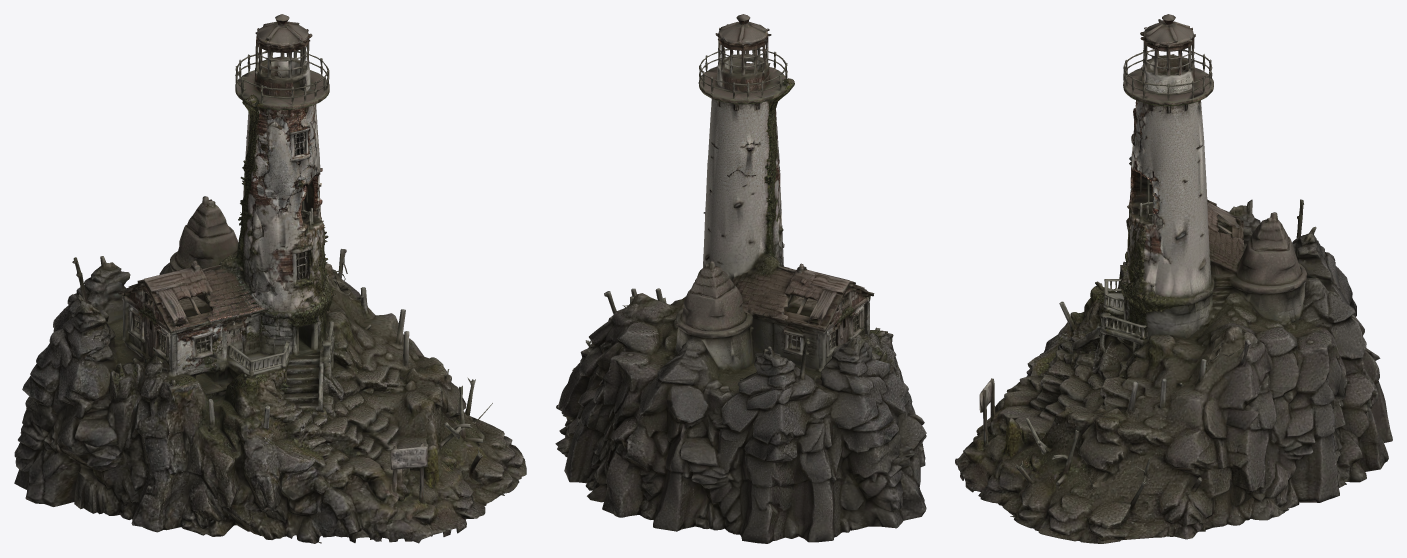
File: post-apocalyptic-lighthouse.glb
The picture shows the model from 3 angles, left to right: view 1: azimuth 30°, elevation 25°; view 2: azimuth 150°, elevation 25°; view 3: azimuth 270°, elevation 25°; orthographic projection. The views are drawn at different scales.
Visible parts, largest first — view 1: tripo_node_4496603e-7986-4afe-8b84-2843c611d68b; view 2: tripo_node_4496603e-7986-4afe-8b84-2843c611d68b; view 3: tripo_node_4496603e-7986-4afe-8b84-2843c611d68b.
Boxes of the visible parts, left/top/right/bottom form: tripo_node_4496603e-7986-4afe-8b84-2843c611d68b: left=14, top=14, right=526, bottom=543; tripo_node_4496603e-7986-4afe-8b84-2843c611d68b: left=555, top=14, right=926, bottom=543; tripo_node_4496603e-7986-4afe-8b84-2843c611d68b: left=955, top=14, right=1392, bottom=543.
Bounding box in the file's own units: 0.942 × 0.9773 × 0.8803.
1 material, 1 textured.
